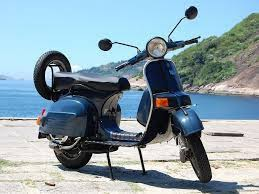scooter: (32, 4, 214, 183)
